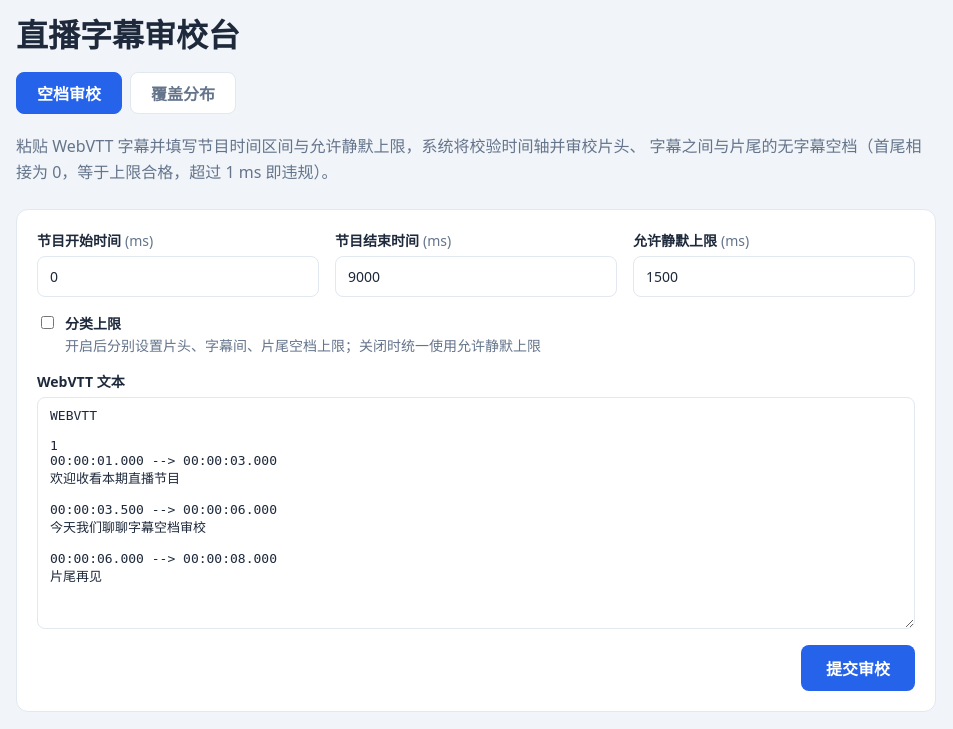
Scenario: App page states › blocks the request when a category limit is fractional and reports it next to the input
Click the checkbox with test id "gap-limits-toggle".
click(48, 323)  # box [41,316,54,329]
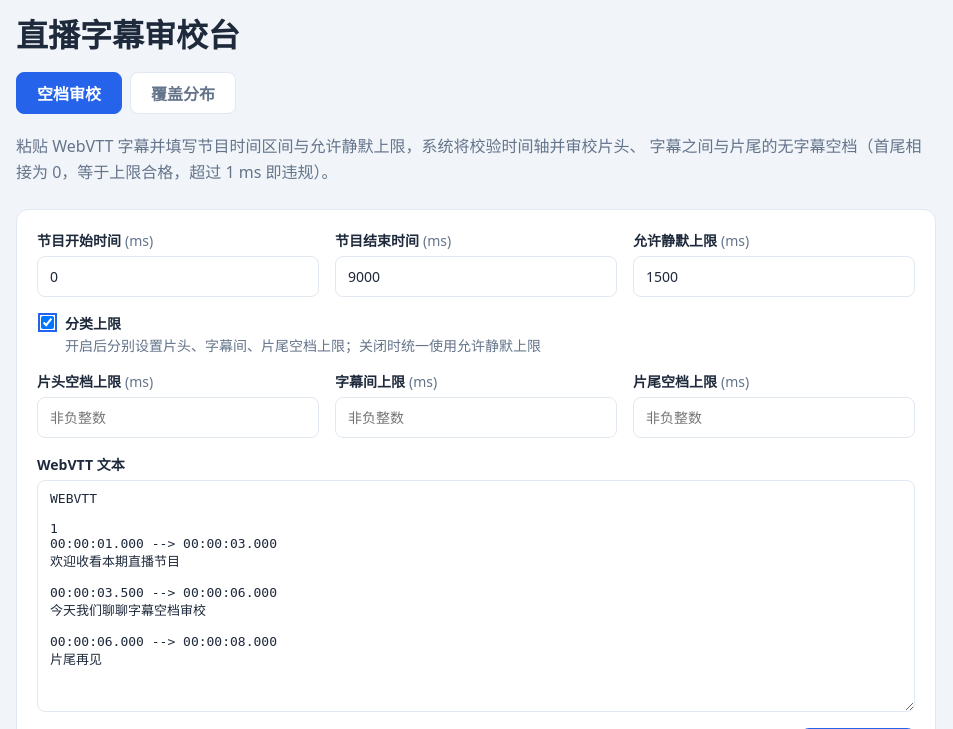
Type "800" into the number field with test id "input-gap-head".
click(178, 418); type("800")  # box [37,397,319,438]
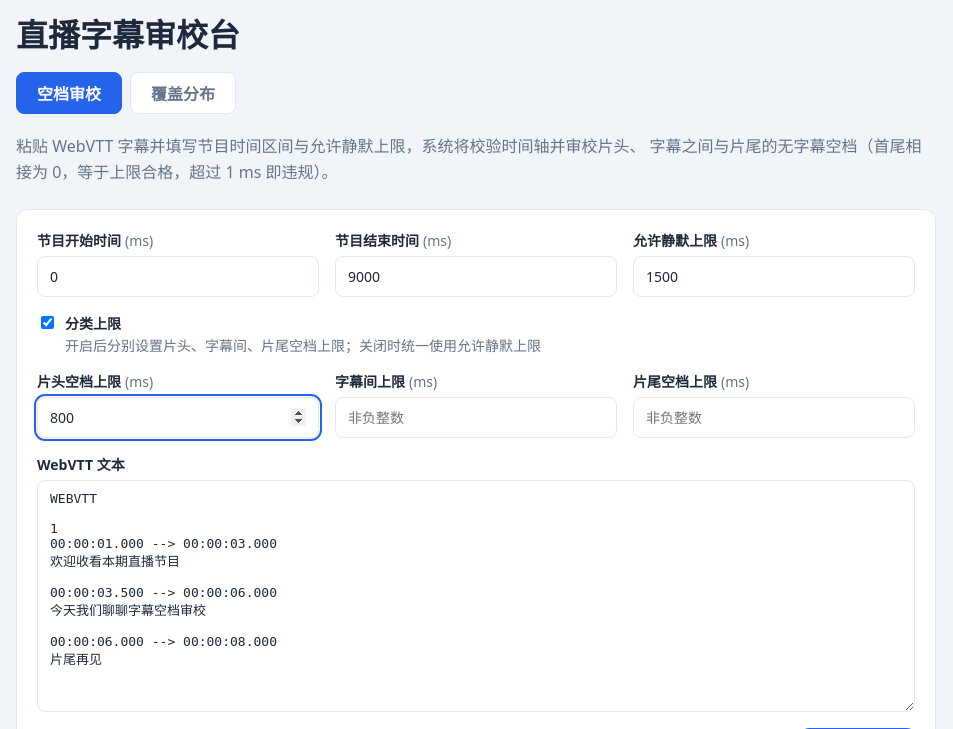
Type "1200" into the number field with test id "input-gap-between".
click(476, 418); type("1200")  # box [335,397,617,438]
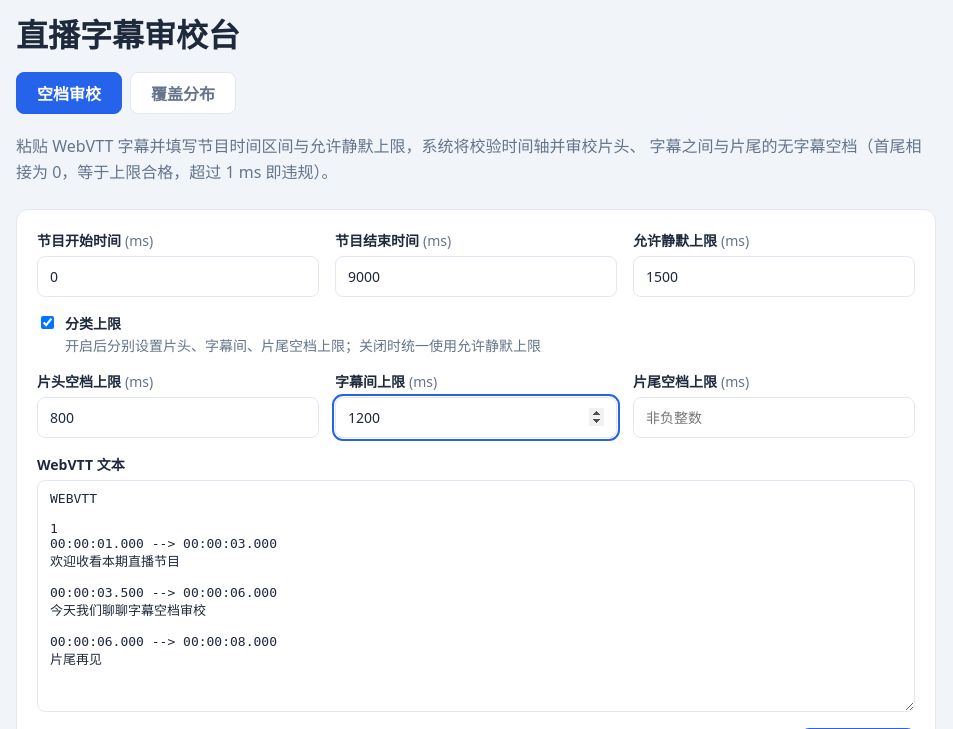
Type "1.5" into the number field with test id "input-gap-tail".
click(774, 418); type("1.5")  # box [633,397,915,438]
(page scrolled)
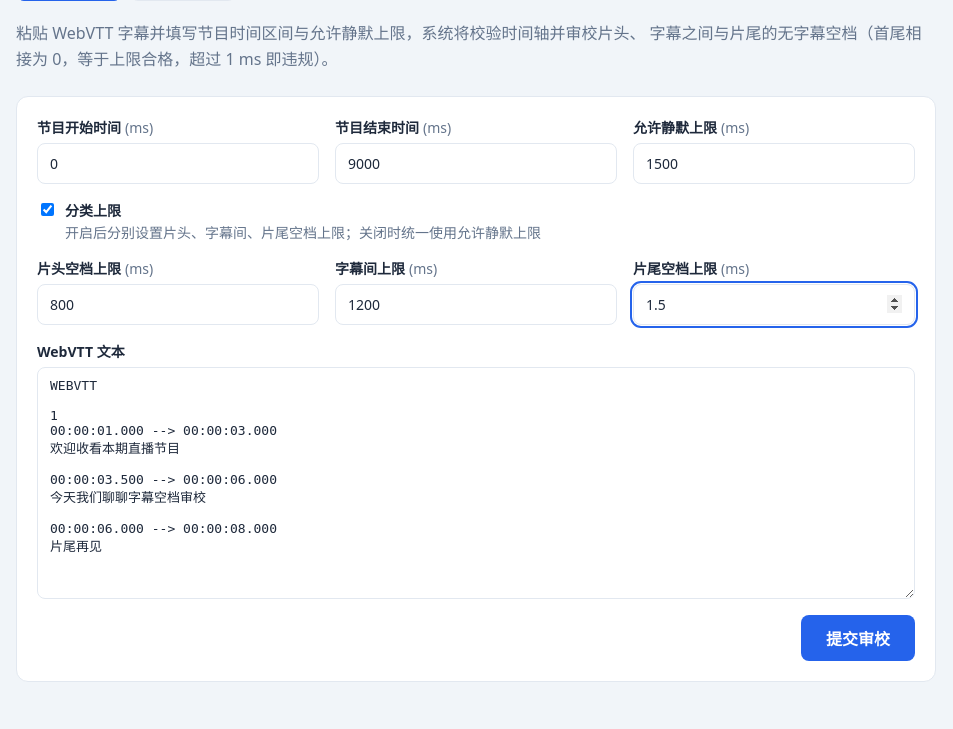
Click the button with test id "submit".
click(858, 638)  # box [801,615,915,661]
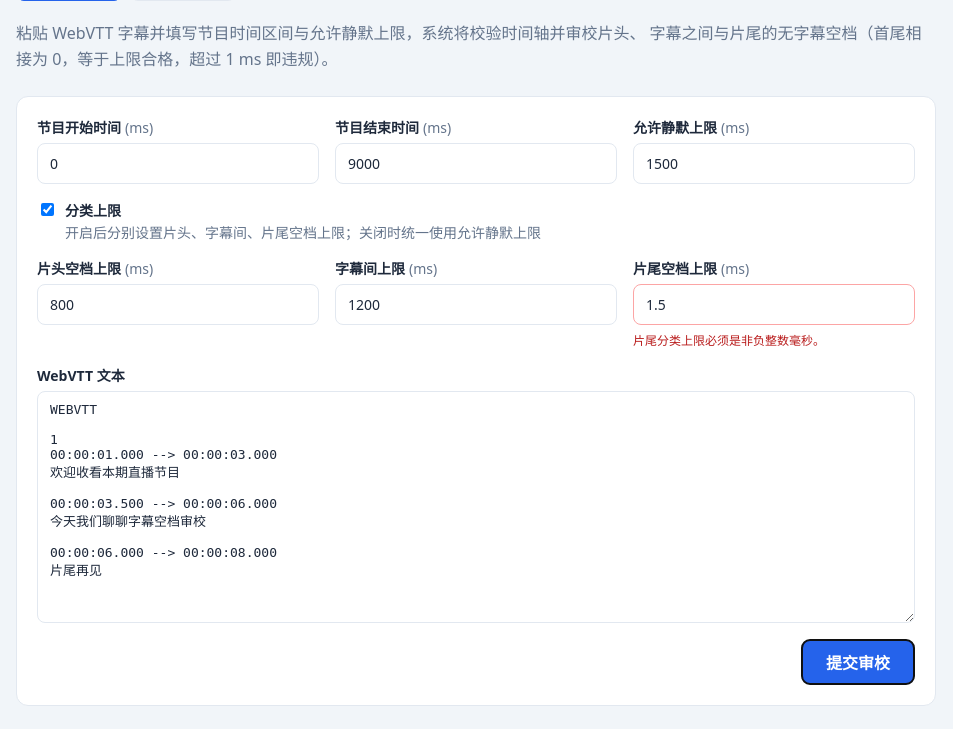
Now the text with test id "input-gap-tail-error" is shown, box [633,332,825,349]
